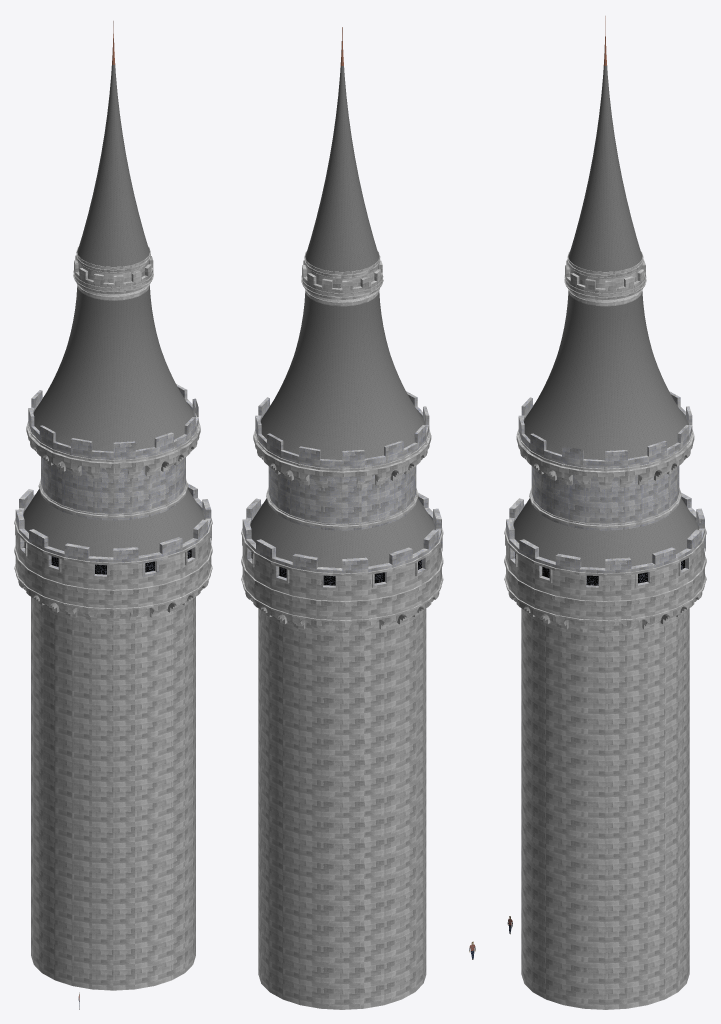
3 renders of one model, left to right at view 1: azimuth 30°, elevation 25°; view 2: azimuth 150°, elevation 25°; view 3: azimuth 270°, elevation 25°, orthographic.
Visible parts, largest first — view 1: SketchUp (×11); view 2: SketchUp (×11); view 3: SketchUp (×11).
Part boxes in pixels (box(x1,y1,x2,y2)): SketchUp (×11): box(14, 65, 212, 990); SketchUp (×11): box(241, 66, 443, 1009); SketchUp (×11): box(504, 65, 706, 1009).
Bounding box in the file's own units: 721 × 721 × 3782.
Materials: 14 (3 with a texture image).
